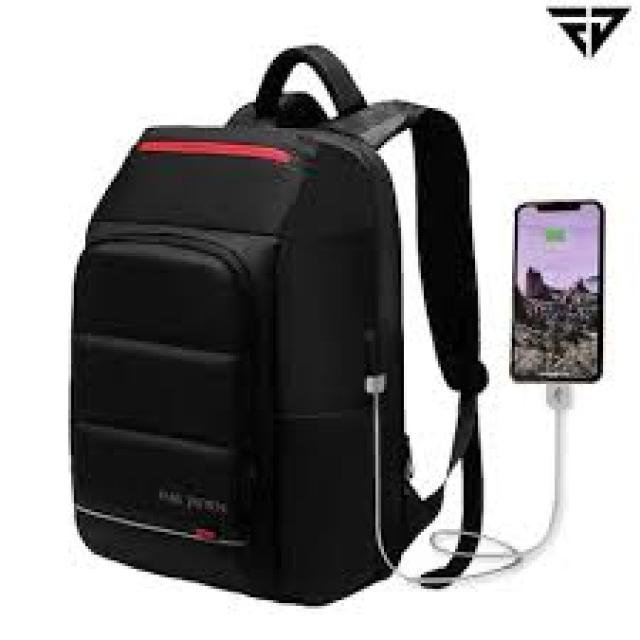backpack: (64, 48, 506, 609)
